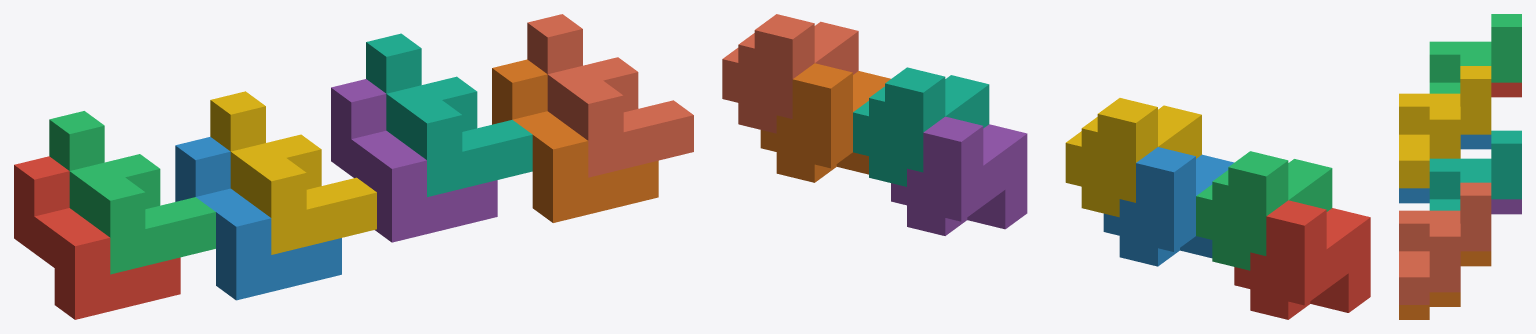
The model's file is tiling.obj.
3 views of the same model, side by side, from view 1: azimuth 30°, elevation 25°; view 2: azimuth 150°, elevation 25°; view 3: azimuth 270°, elevation 25° (orthographic). The views are drawn at different scales.
Parts seen in each view (by area): view 1: copy_1_domain_7, copy_1_domain_3, copy_1_domain_4, copy_1_domain_8, copy_1_domain_1, copy_1_domain_5, copy_1_domain_6, copy_1_domain_2; view 2: copy_1_domain_5, copy_1_domain_1, copy_1_domain_3, copy_1_domain_8, copy_1_domain_7, copy_1_domain_4, copy_1_domain_6, copy_1_domain_2; view 3: copy_1_domain_8, copy_1_domain_4, copy_1_domain_7, copy_1_domain_3, copy_1_domain_6, copy_1_domain_2, copy_1_domain_1, copy_1_domain_5.
Part boxes in pixels (box(x1,y1,x2,y2)): copy_1_domain_7: box(366, 33, 532, 196); copy_1_domain_3: box(49, 111, 215, 274); copy_1_domain_4: box(210, 91, 376, 254); copy_1_domain_8: box(527, 14, 693, 177); copy_1_domain_1: box(14, 156, 180, 319); copy_1_domain_5: box(331, 79, 497, 242); copy_1_domain_6: box(492, 59, 658, 222); copy_1_domain_2: box(175, 136, 341, 300); copy_1_domain_5: box(891, 116, 1027, 235); copy_1_domain_1: box(1234, 200, 1370, 319); copy_1_domain_3: box(1196, 151, 1332, 270); copy_1_domain_8: box(722, 14, 858, 133); copy_1_domain_7: box(853, 67, 989, 186); copy_1_domain_4: box(1065, 98, 1201, 217); copy_1_domain_6: box(760, 63, 890, 182); copy_1_domain_2: box(1103, 147, 1234, 266); copy_1_domain_8: box(1399, 182, 1491, 304); copy_1_domain_4: box(1399, 66, 1491, 188); copy_1_domain_7: box(1429, 130, 1521, 210); copy_1_domain_3: box(1429, 14, 1521, 93); copy_1_domain_6: box(1399, 251, 1491, 319); copy_1_domain_2: box(1399, 134, 1491, 203); copy_1_domain_1: box(1491, 82, 1521, 97); copy_1_domain_5: box(1491, 199, 1521, 214).
Size of the model in its own units: 17 by 4 by 4.
